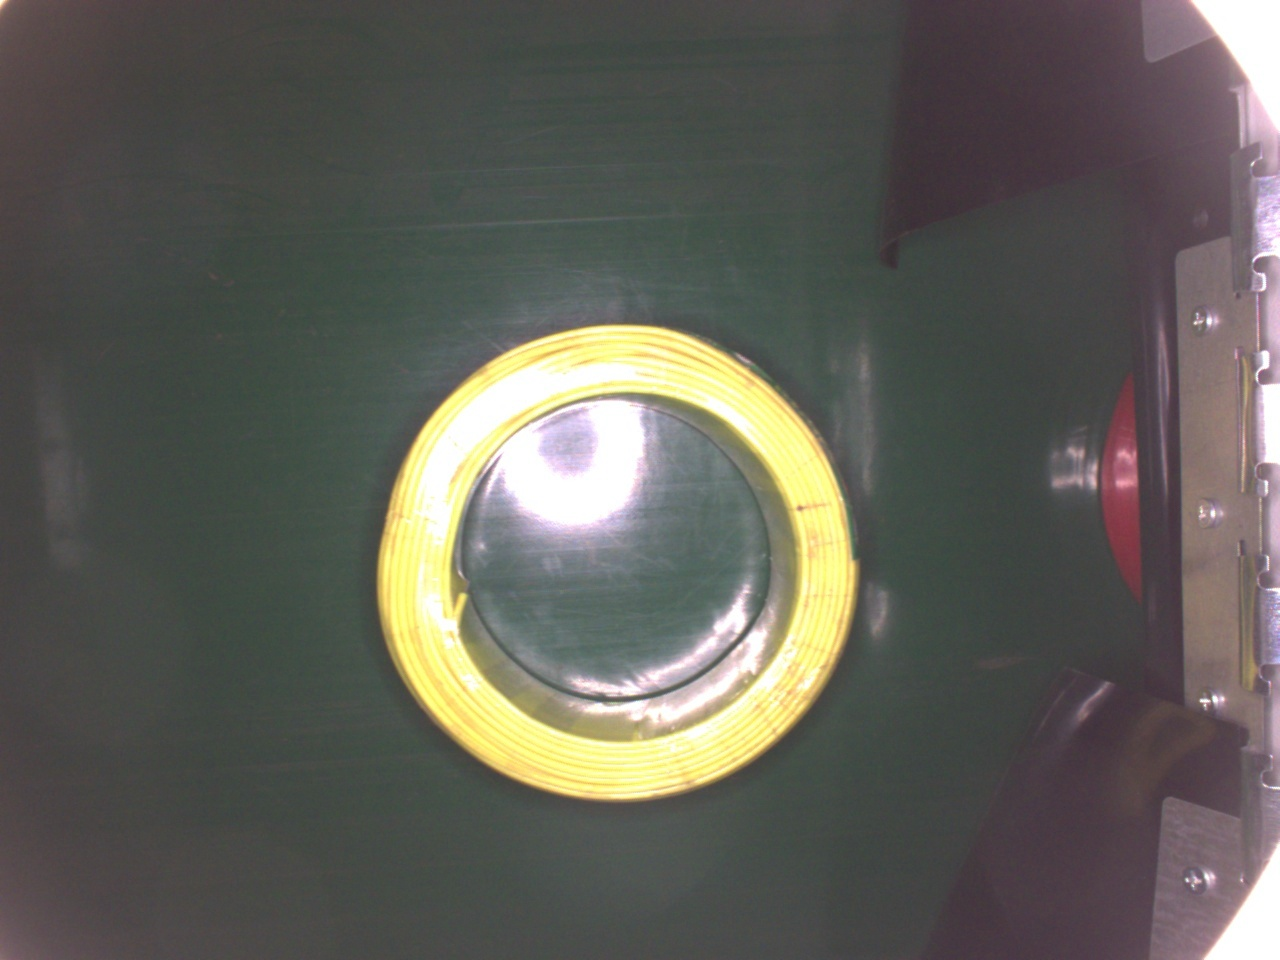yellow: (377, 318, 861, 805)
